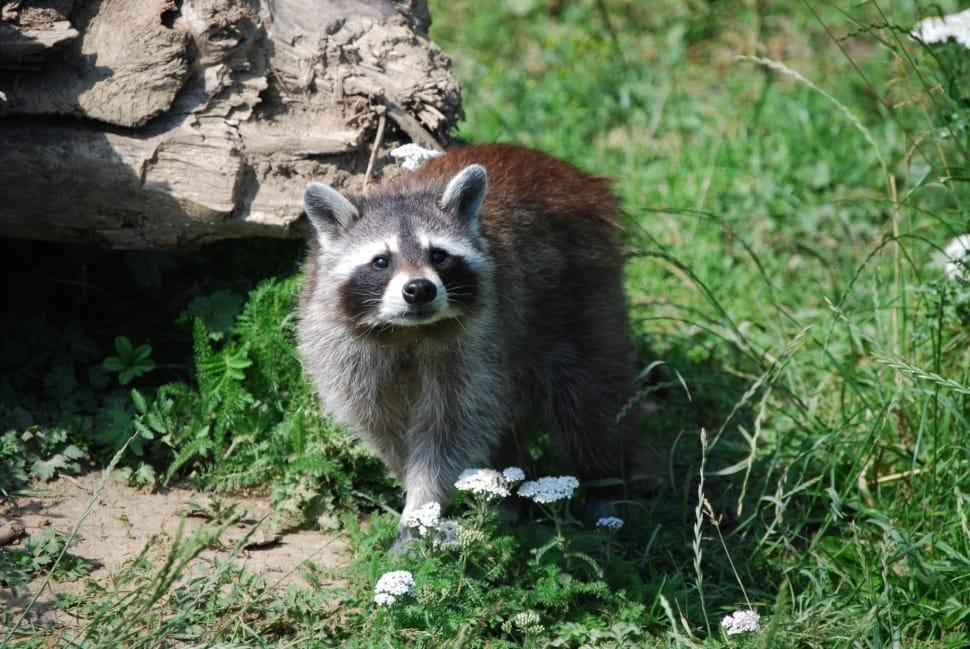raccoon: (296, 142, 638, 556)
